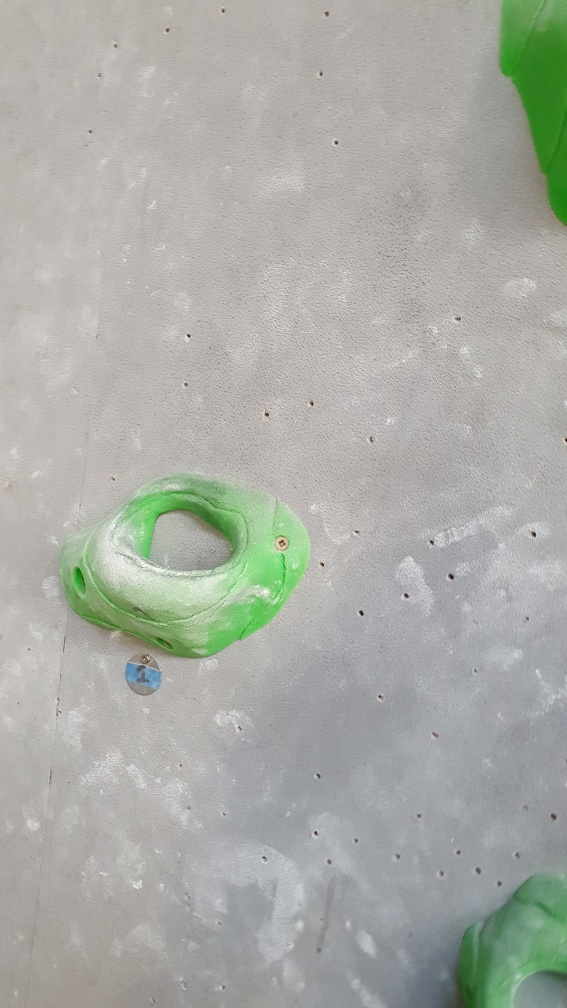Hand Start: (125, 649, 163, 703)
Pocket: (61, 465, 315, 661), (458, 862, 567, 1005)
